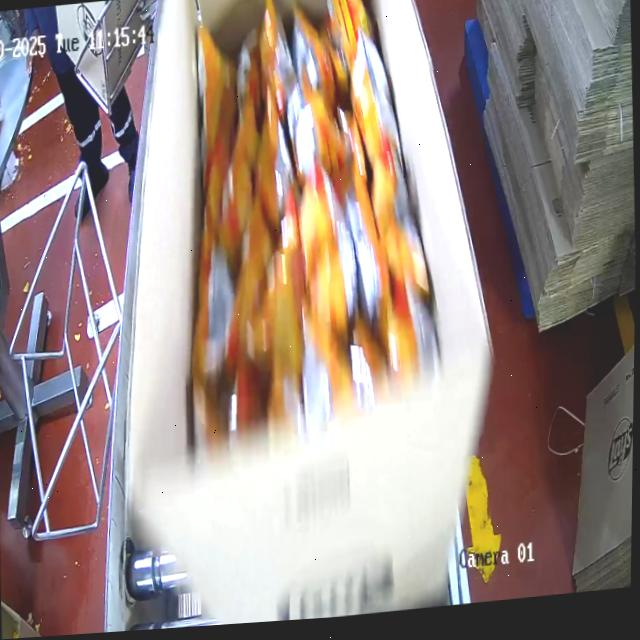FRENCH_CHEESE: (183, 0, 431, 408)
